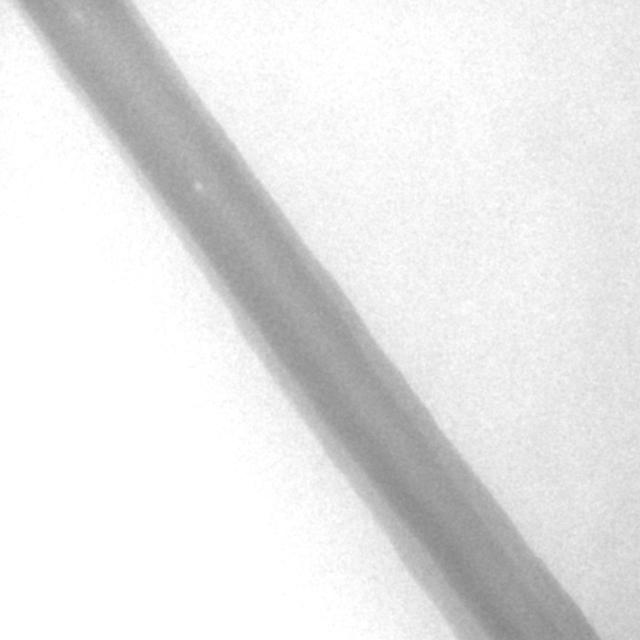air hole: (191, 180, 204, 196)
